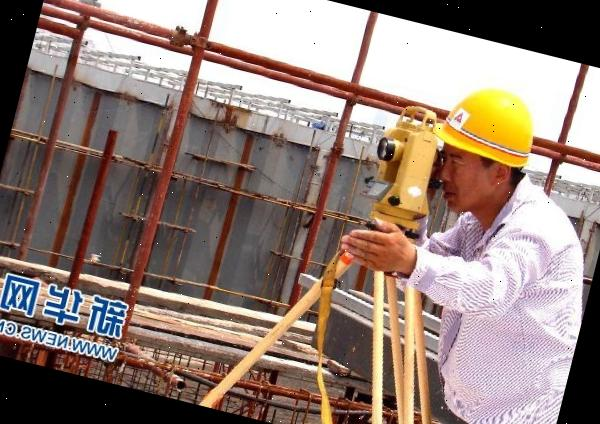helmet: (429, 76, 548, 175)
no_wear: (433, 206, 591, 424)
